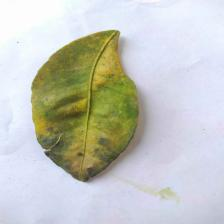black spot: (30, 119, 128, 180)
